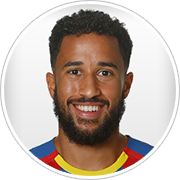smile: (69, 100, 106, 116)
